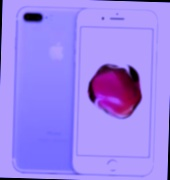iphone: (58, 14, 167, 180)
